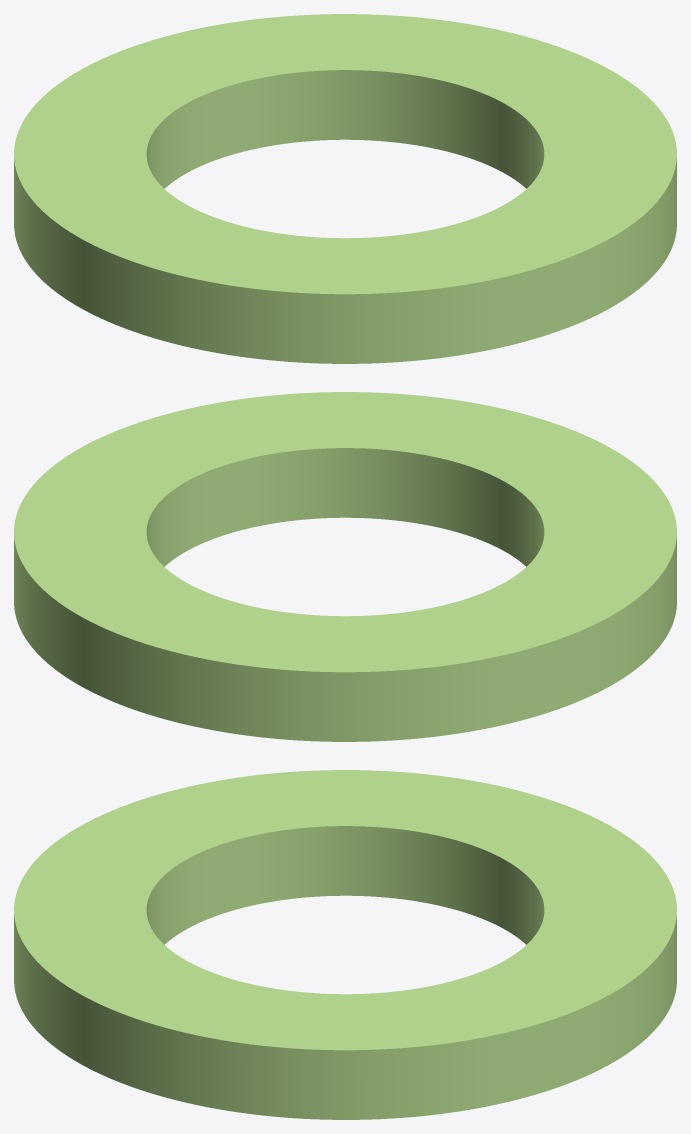
File: Main_ExtraPart1.dae
3 views of the same model, one above another, from view 1: azimuth 30°, elevation 25°; view 2: azimuth 150°, elevation 25°; view 3: azimuth 270°, elevation 25° (orthographic).
Parts seen in each view (by area): view 1: Main_ExtraPart1; view 2: Main_ExtraPart1; view 3: Main_ExtraPart1.
Boxes of the visible parts, <box> form: Main_ExtraPart1: <box>14,14,676,363</box>; Main_ExtraPart1: <box>14,392,676,741</box>; Main_ExtraPart1: <box>14,770,676,1119</box>.
Size of the model in its own units: 0.05 by 0.05 by 0.0058.
